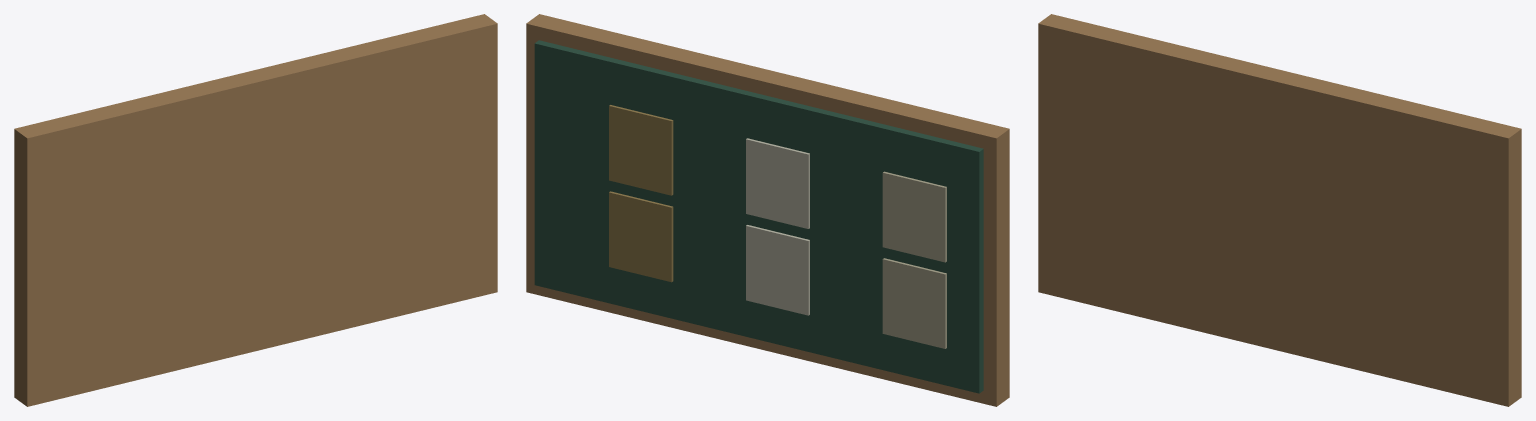
File: noticeboard.glb
3 views of the same model, side by side, from view 1: azimuth 30°, elevation 25°; view 2: azimuth 150°, elevation 25°; view 3: azimuth 330°, elevation 25° (orthographic).
Parts seen in each view (by area): view 1: noticeboard; view 2: noticeboard; view 3: noticeboard.
Part boxes in pixels (x1,y1,x2,y2): noticeboard: [14, 14, 497, 406]; noticeboard: [526, 14, 1009, 406]; noticeboard: [1038, 14, 1521, 406].
Bounding box in the file's own units: 1.65 × 0.9 × 0.1225.
